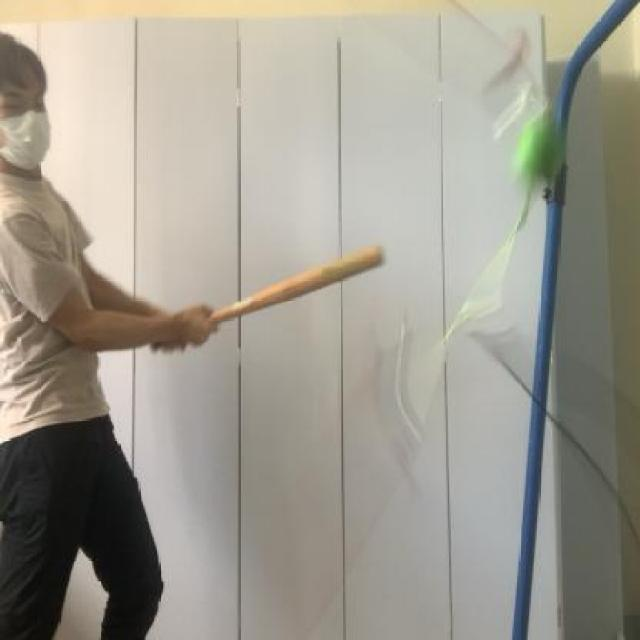baseball: (499, 96, 584, 196)
